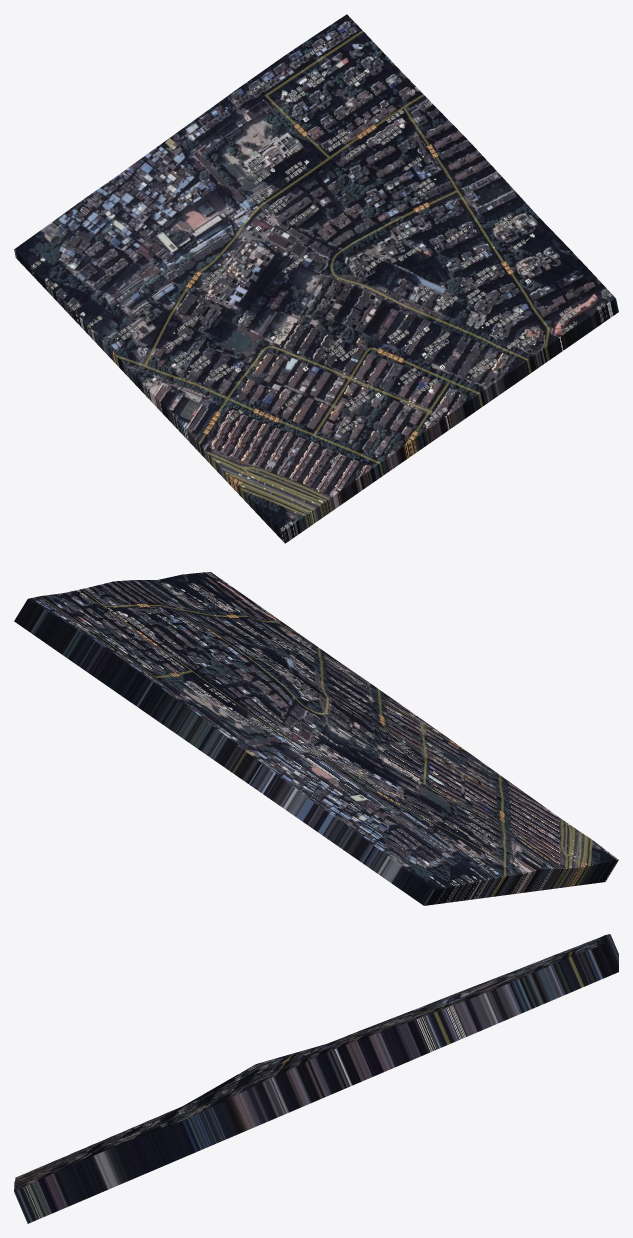
3 views of the same model, one above another, from view 1: azimuth 30°, elevation 25°; view 2: azimuth 150°, elevation 25°; view 3: azimuth 270°, elevation 25° (orthographic). The views are drawn at different scales.
Parts seen in each view (by area): view 1: 0_16_14; view 2: 0_16_14; view 3: 0_16_14.
Part boxes in pixels (box(x1,y1,x2,y2)): 0_16_14: box(14, 14, 618, 543); 0_16_14: box(14, 572, 618, 905); 0_16_14: box(14, 934, 618, 1223).
Size of the model in its own units: 599 by 452 by 555.
1 material, 1 textured.
